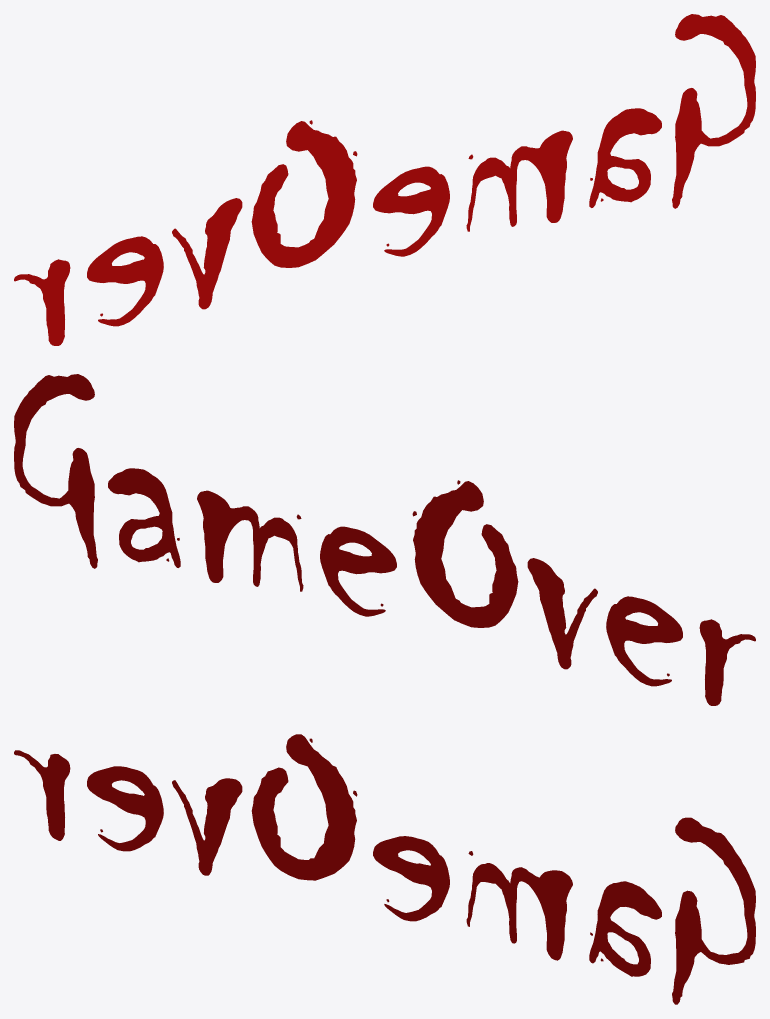
File: gameOverTextButtonText.obj
3 views of the same model, one above another, from view 1: azimuth 30°, elevation 25°; view 2: azimuth 150°, elevation 25°; view 3: azimuth 330°, elevation 25° (orthographic).
Visible parts, largest first — view 1: gameOverTextButtonText; view 2: gameOverTextButtonText; view 3: gameOverTextButtonText.
Boxes of the visible parts, x1=… form: gameOverTextButtonText: x1=14, y1=14, x2=755, y2=345; gameOverTextButtonText: x1=14, y1=374, x2=755, y2=705; gameOverTextButtonText: x1=14, y1=734, x2=755, y2=1004.
Size of the model in its own units: 2.4 by 0.5899 by 0.
